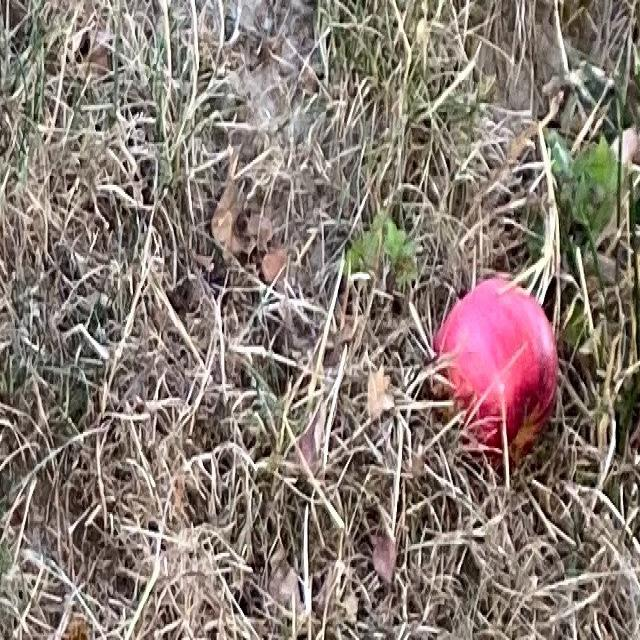Apples: (437, 277, 557, 457)
